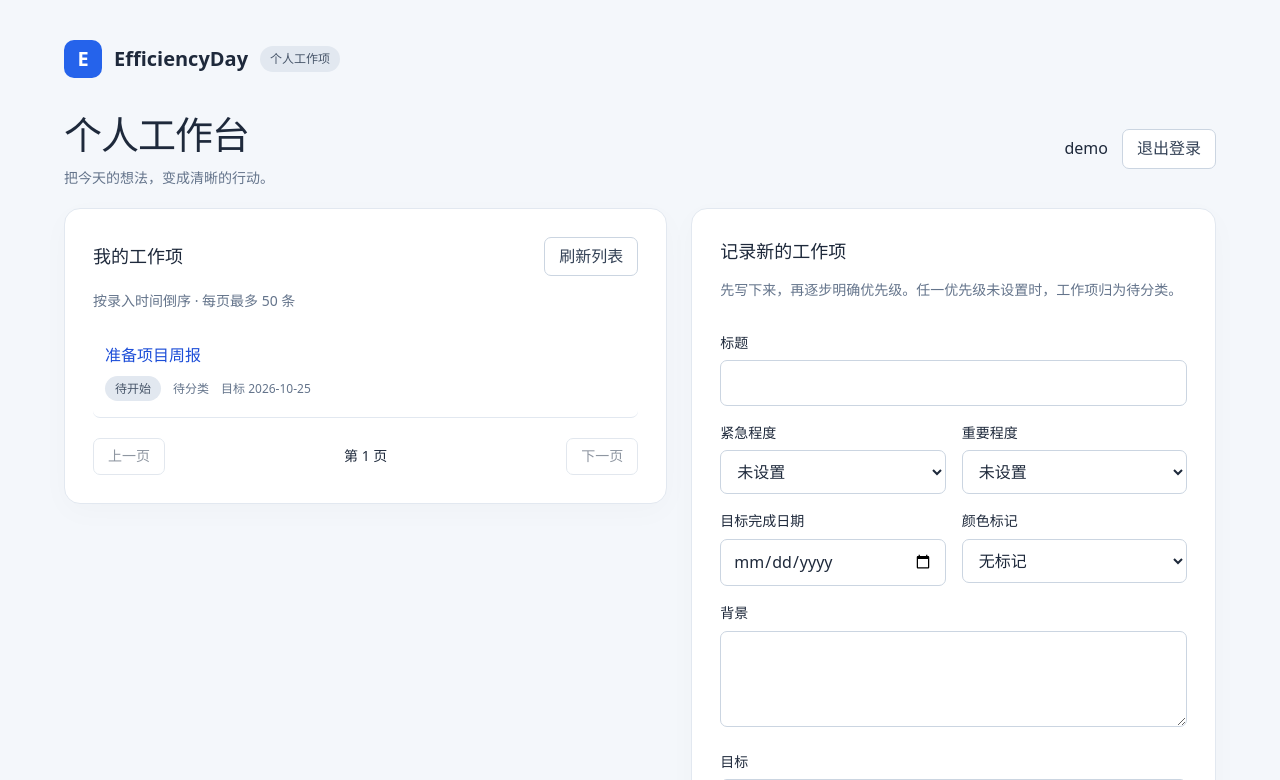
Scenario: opens server detail and preserves date-only values
This screenshot has width=1280, height=780.
Click the button "准备项目周报": (153, 355) top-left (105, 343), bottom-right (201, 368)
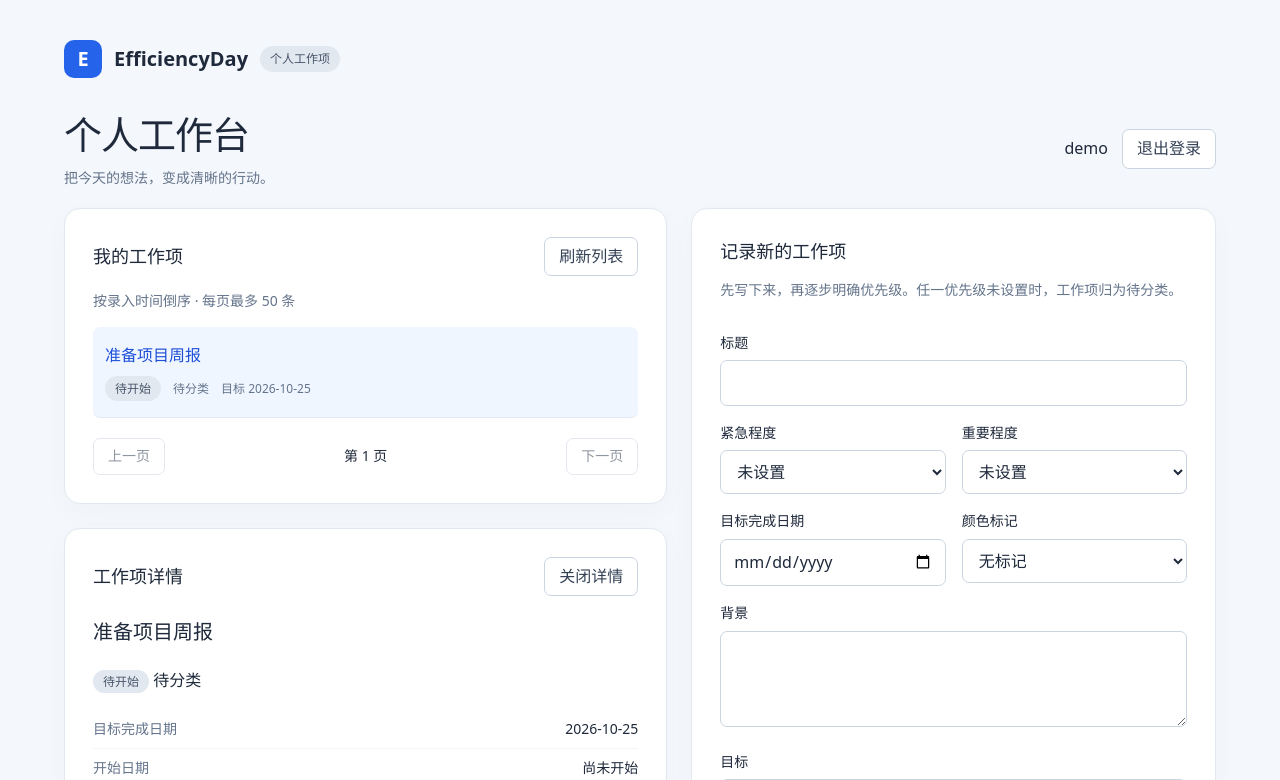
Check: the text "2026-10-25" is shown, box top-left (565, 718), bottom-right (638, 740)
Check: the text "待分类" is shown, box top-left (153, 669), bottom-right (201, 691)
